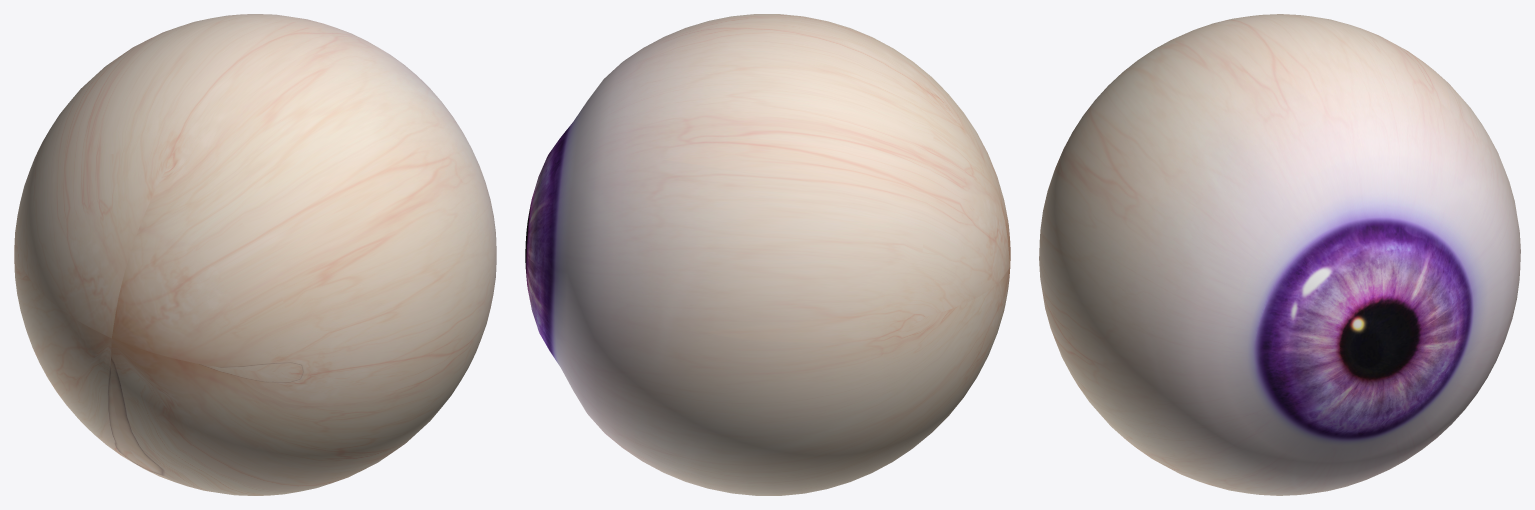
Rendered from 9732739 eyeball.gltf.
3 views of the same model, side by side, from view 1: azimuth 30°, elevation 25°; view 2: azimuth 150°, elevation 25°; view 3: azimuth 270°, elevation 25° (orthographic).
Parts seen in each view (by area): view 1: Sphere; view 2: Sphere; view 3: Sphere.
Boxes of the visible parts, x1,y1,x2,y2 form: Sphere: (14,14,496,495); Sphere: (525,14,1010,495); Sphere: (1039,14,1520,495).
Size of the model in its own units: 1.98 by 1.98 by 1.98.
1 material, 1 textured.
